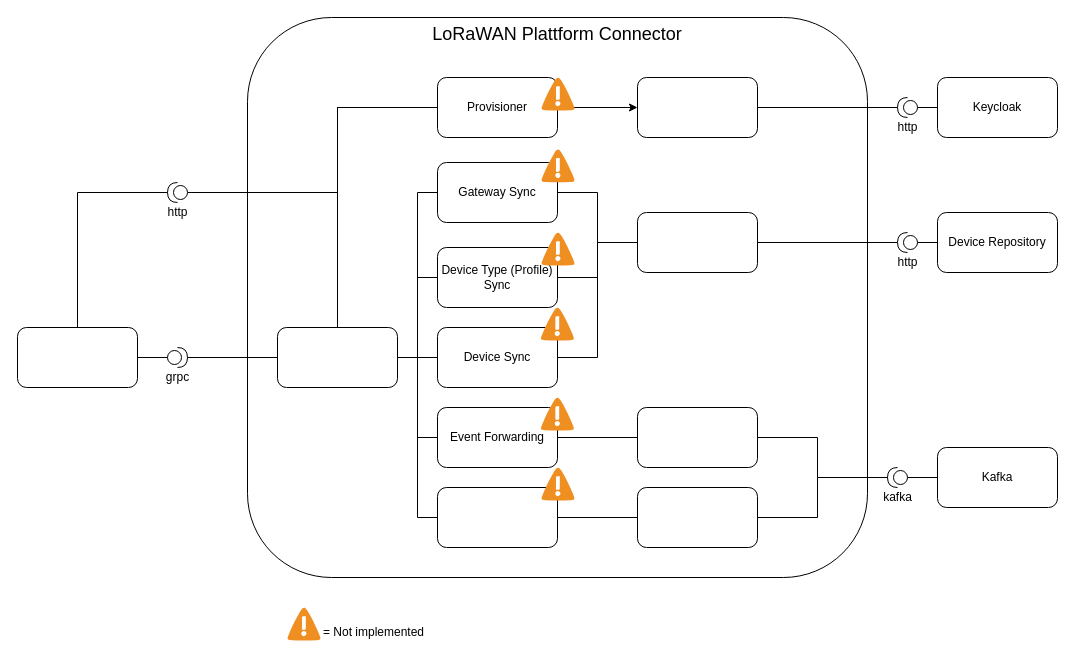
This 1075x665 diagram has some shape labels left out. Here are the shapes that lost their labels. From the top down, the centre of each, then its label:
At (x=697, y=107): "Keycloak Client".
At (x=697, y=242): "Device Repo Client".
At (x=77, y=357): "Chirpstack".
At (x=337, y=357): "Chirpstack Client".
At (x=697, y=437): "Kafka Producer".
At (x=497, y=517): "Request Forwarding".
At (x=697, y=517): "Kafka Subscriber".
